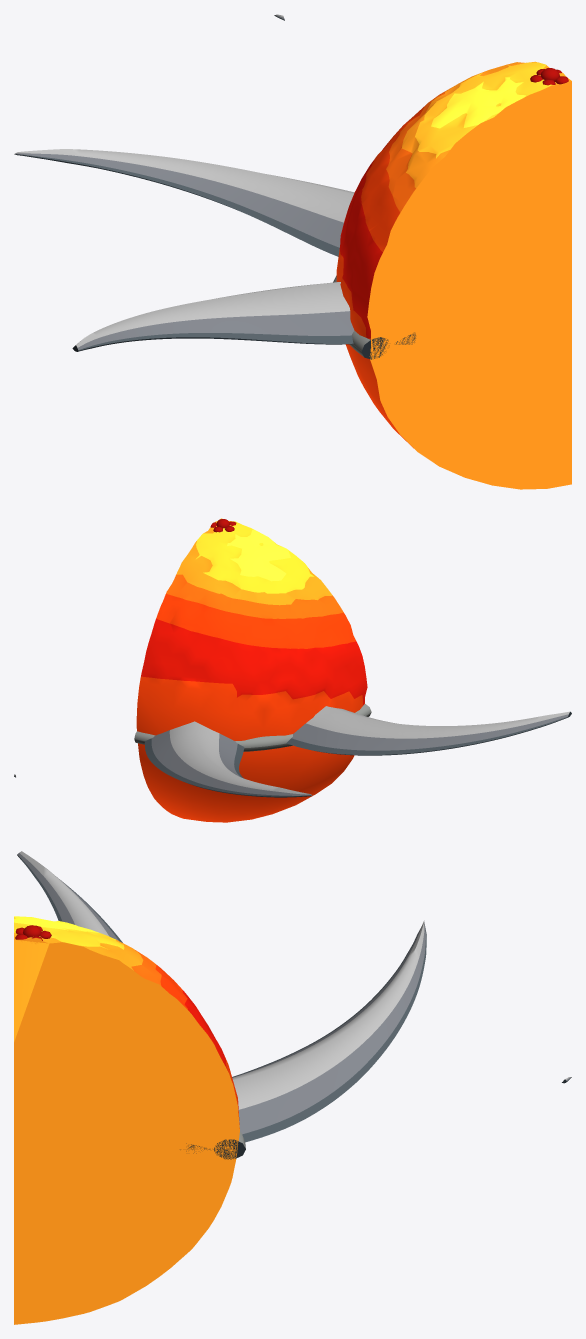
File: orange_saw_tl.glb
3 renders of one model, top to bottom at view 1: azimuth 30°, elevation 25°; view 2: azimuth 150°, elevation 25°; view 3: azimuth 270°, elevation 25°, orthographic. The views are drawn at different scales.
Parts seen in each view (by area): view 1: orange_saw_tl; view 2: orange_saw_tl; view 3: orange_saw_tl.
Part boxes in pixels (<box>): orange_saw_tl: <box>14,14,571,489</box>; orange_saw_tl: <box>14,518,571,822</box>; orange_saw_tl: <box>14,851,571,1324</box>.
Bounding box in the file's own units: 24 × 19.19 × 24.7.
